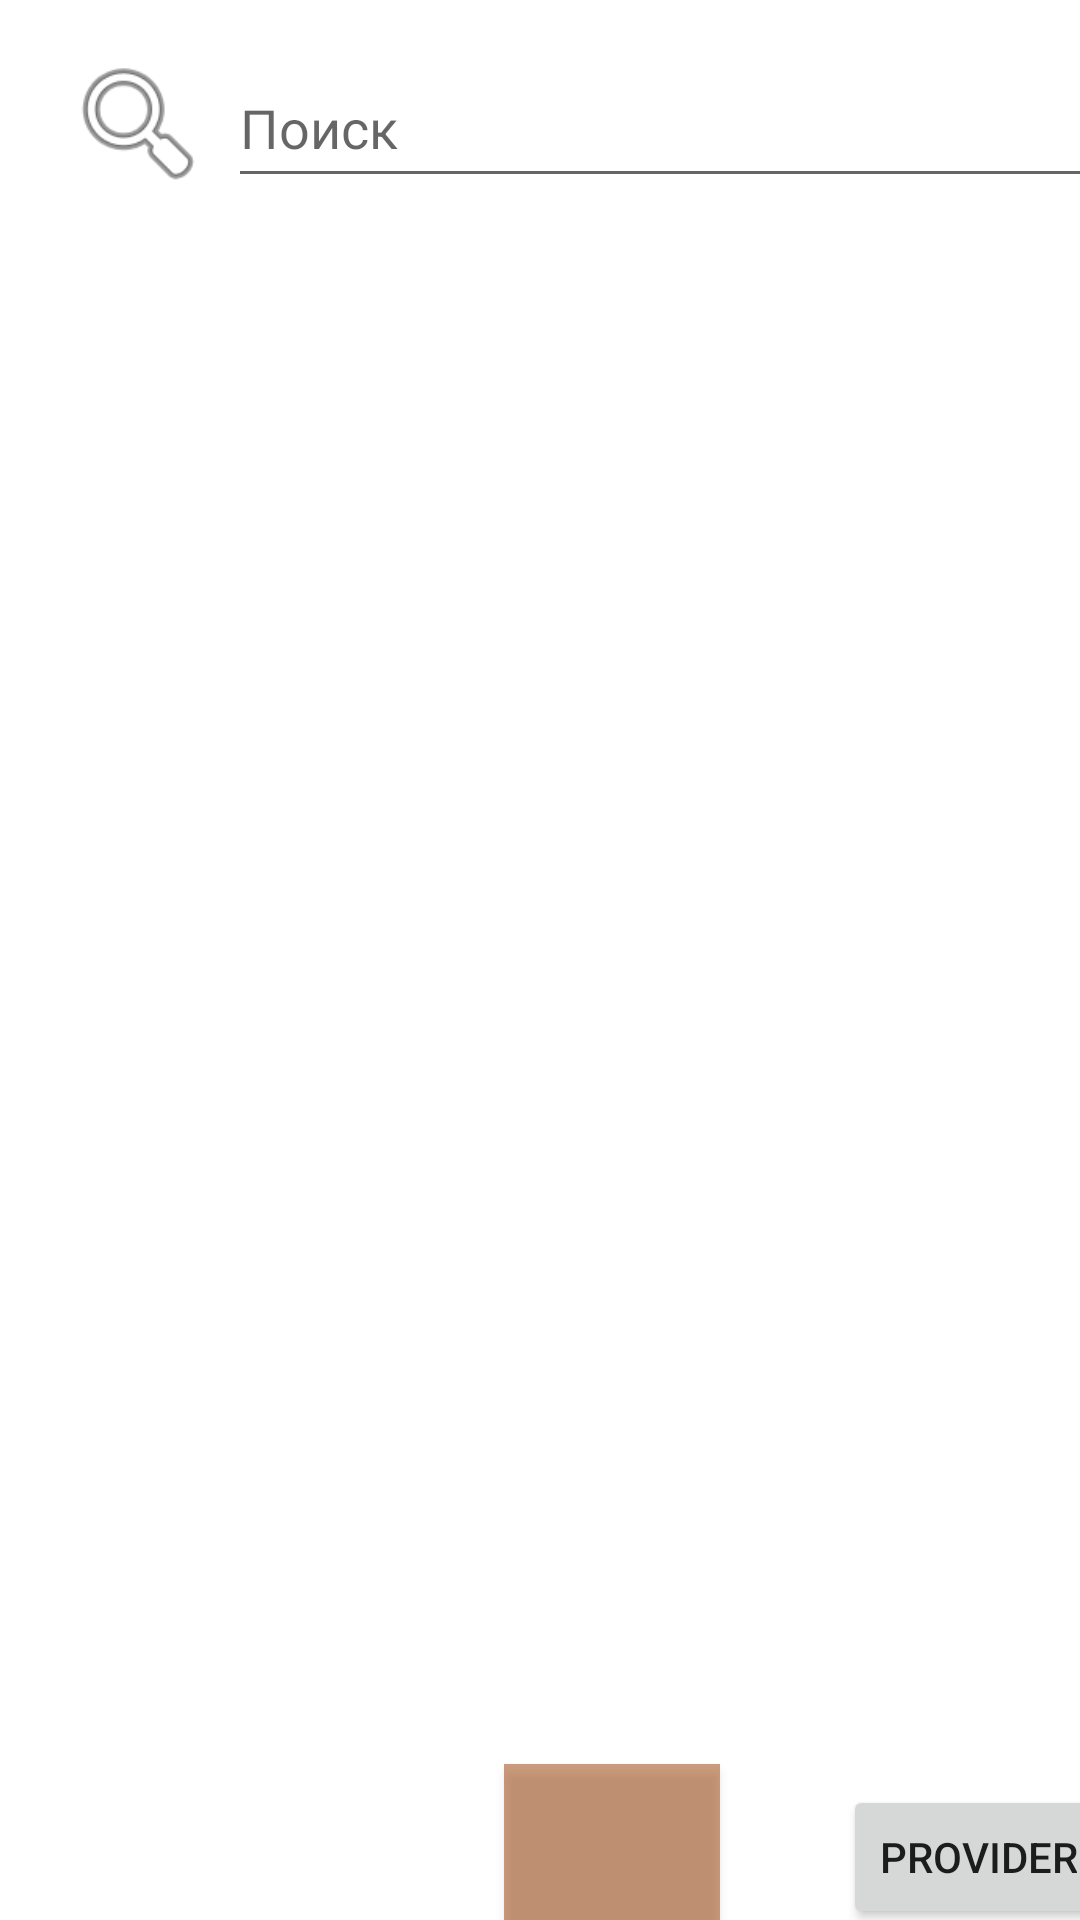

Screen size 1080 x 1920. Icon name, then its box in pixels as (x1, y1, x2, y2):
search: (82, 68, 194, 180)
